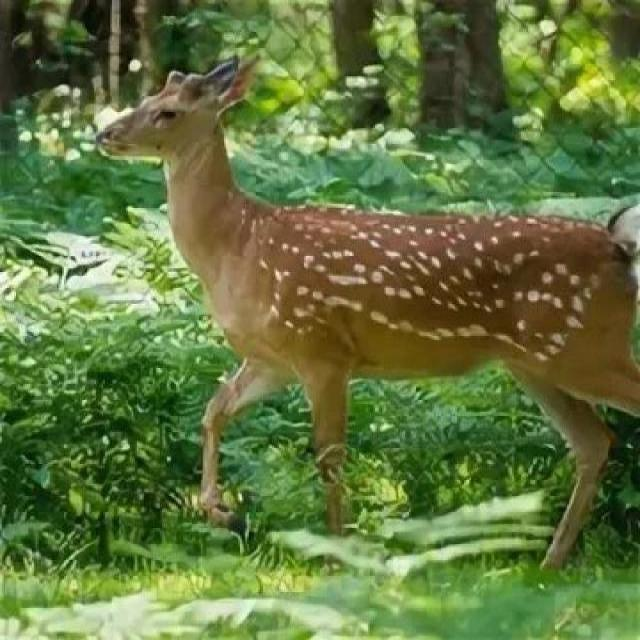deer: (96, 74, 640, 586)
